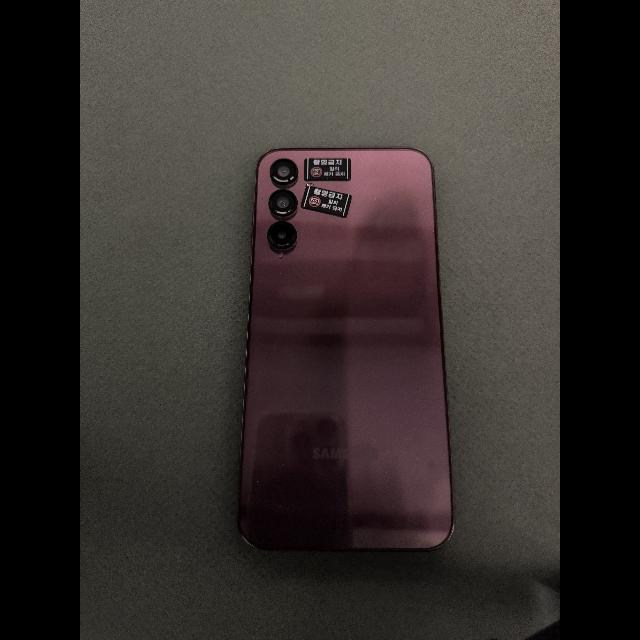lens: (269, 189, 298, 217), (268, 221, 295, 250), (271, 159, 298, 184)
phone: (238, 148, 453, 551)
sticker: (300, 186, 352, 218), (303, 156, 353, 181)
